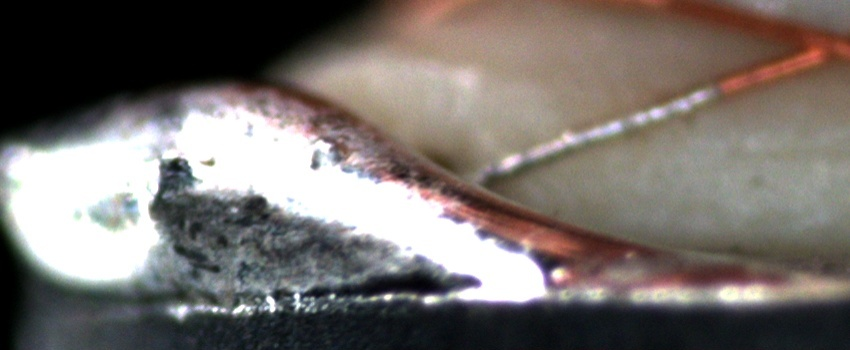DL: (700, 135, 850, 176)
TS: (474, 82, 722, 185)
